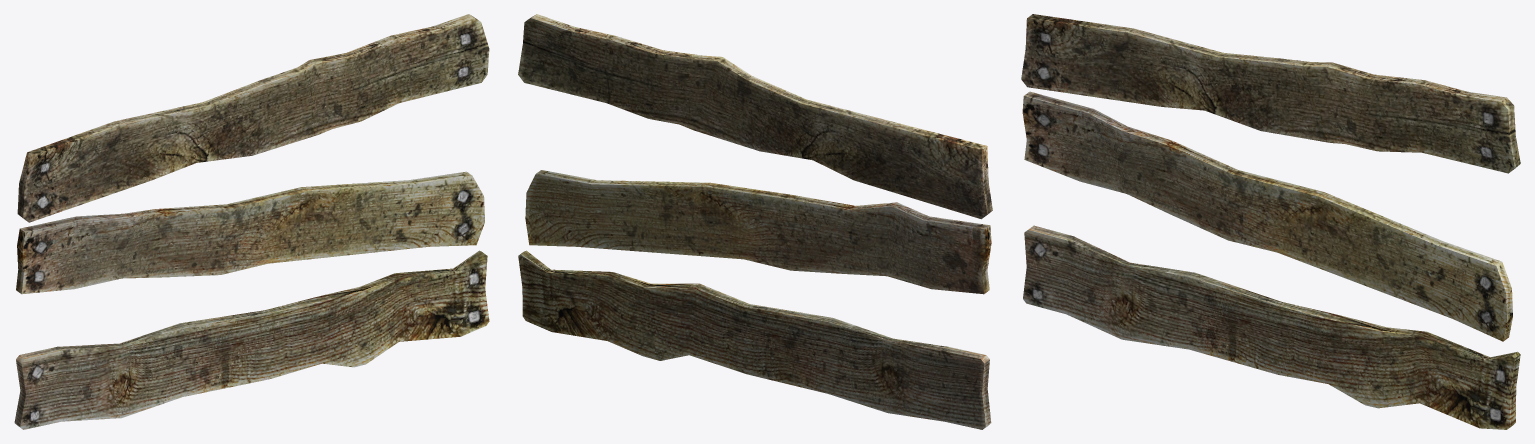
Rendered from wooden_boards_block.dae.
The picture shows the model from 3 angles, left to right: view 1: azimuth 30°, elevation 25°; view 2: azimuth 150°, elevation 25°; view 3: azimuth 330°, elevation 25°; orthographic projection. The views are drawn at different scales.
Parts seen in each view (by area): view 1: wooden_boards_block_mesh; view 2: wooden_boards_block_mesh; view 3: wooden_boards_block_mesh.
Boxes of the visible parts, bbox=[...] form: wooden_boards_block_mesh: bbox=[14, 14, 489, 429]; wooden_boards_block_mesh: bbox=[518, 14, 992, 429]; wooden_boards_block_mesh: bbox=[1021, 14, 1520, 429].
Bounding box in the file's own units: 2.39 × 1.54 × 0.1268.
